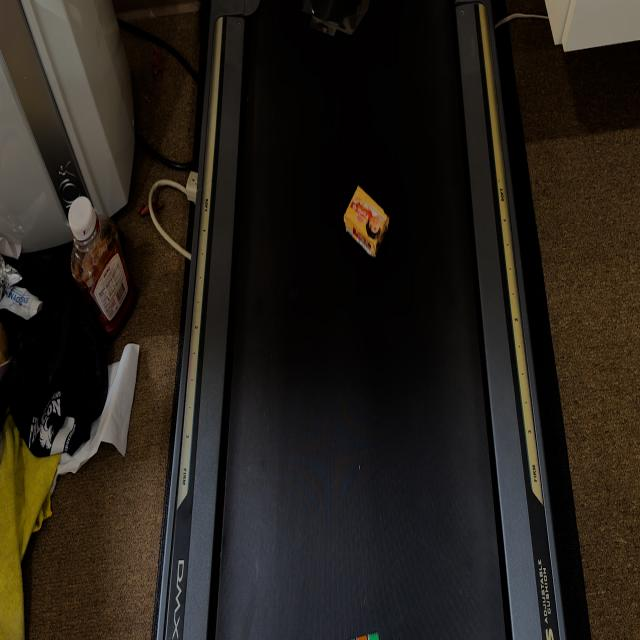Trash: (344, 182, 389, 255)
